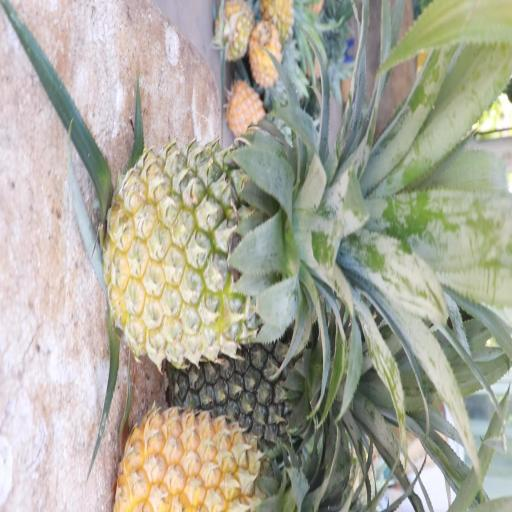------------------------------: (105, 144, 305, 357)
Pineapple - v8 v1: (111, 393, 308, 512), (213, 0, 255, 62), (250, 18, 284, 90)
